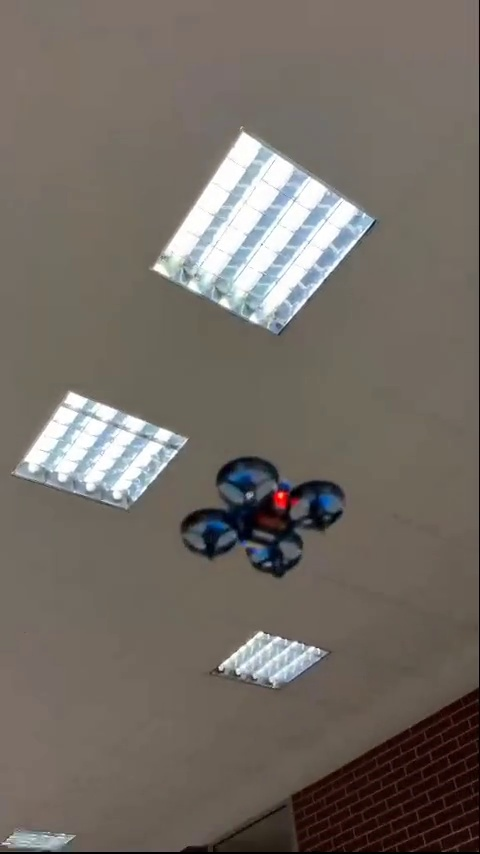drone: (182, 457, 349, 581)
